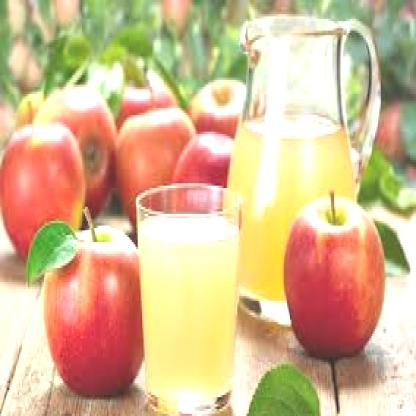apple: (284, 188, 388, 352), (41, 233, 148, 392), (2, 124, 82, 258), (38, 76, 114, 214), (113, 110, 198, 232), (172, 122, 240, 200), (185, 73, 249, 134)
